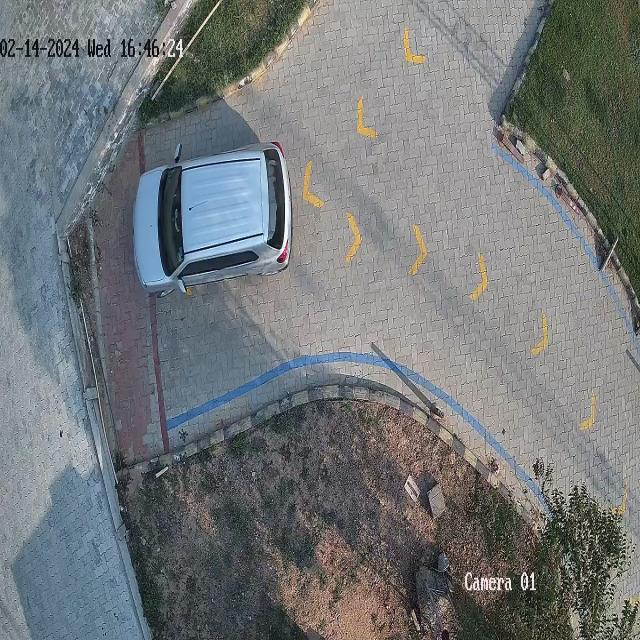car: (132, 139, 293, 299)
